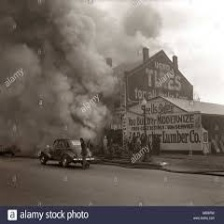smoke: (1, 4, 127, 136)
